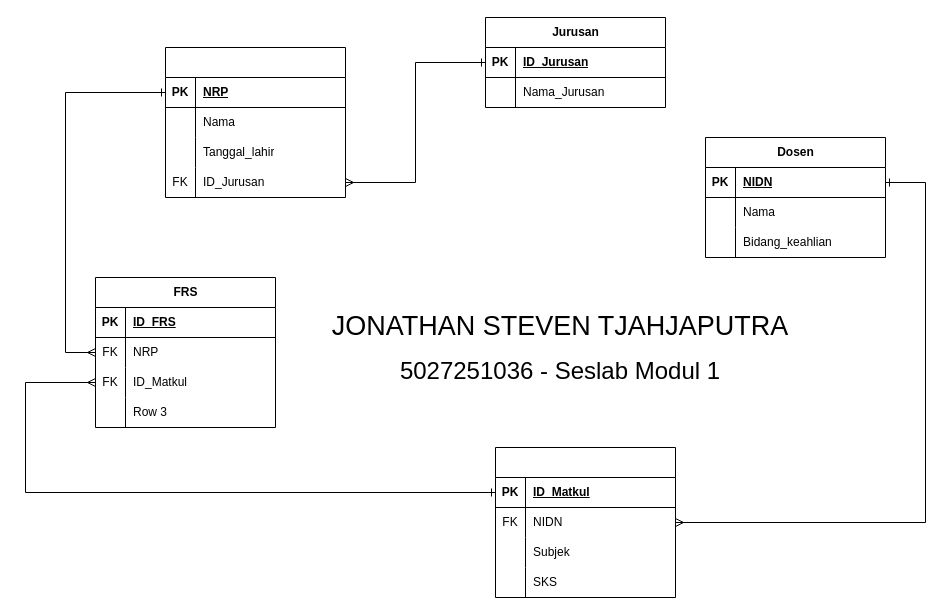
The diagram is 952 pixels wide and 615 high, and some of its shapes have lost their labels. The shapes that lost their labels are listed below. From the top down, each one's box as (x1, y1, x2, y2) in pixels, then its label:
(164, 46, 346, 198): Mahasiswa
(494, 446, 676, 598): Mata_Kuliah
